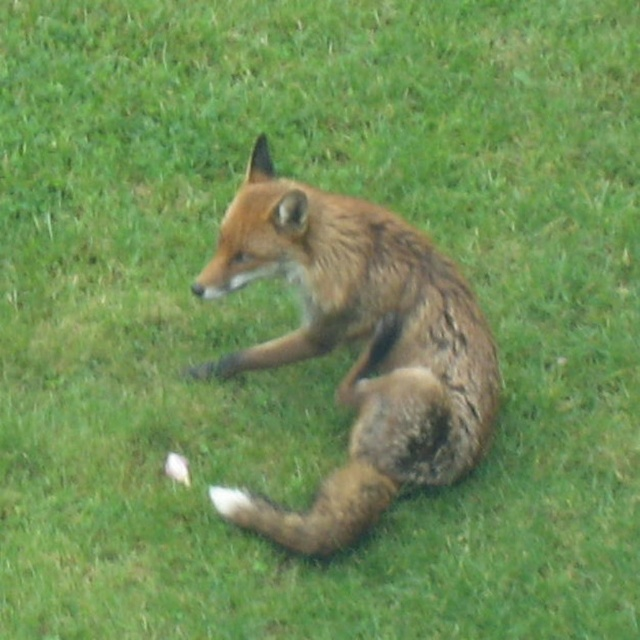Fox: (182, 130, 504, 562)
